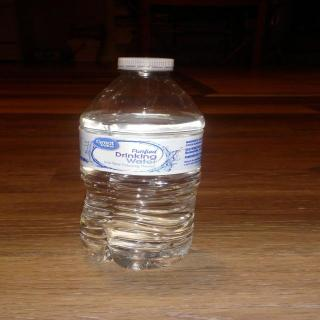Plastic-bottle: (71, 57, 206, 273)
